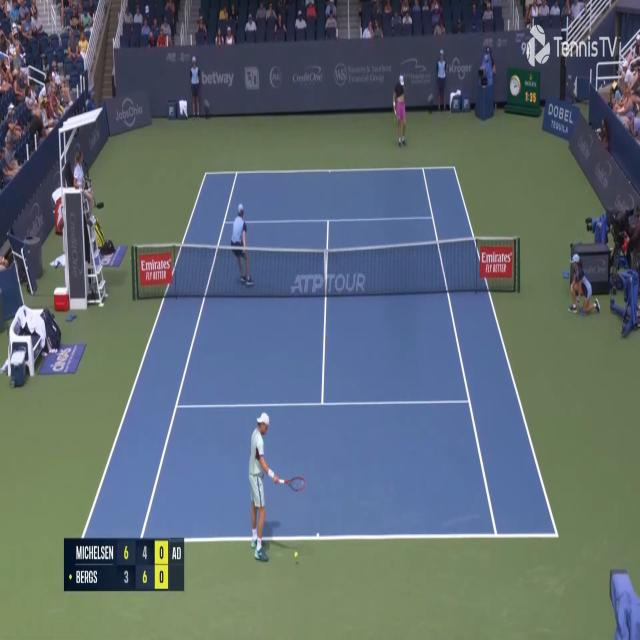tennis-player: (247, 408, 308, 563), (392, 74, 408, 149)
